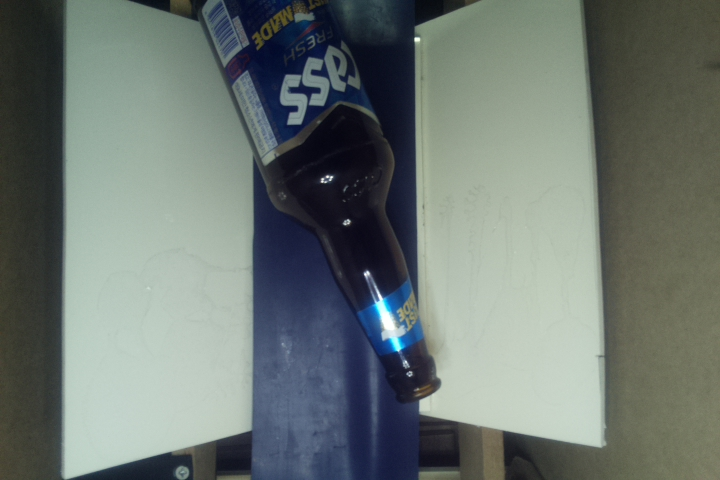makju: (192, 1, 444, 401)
